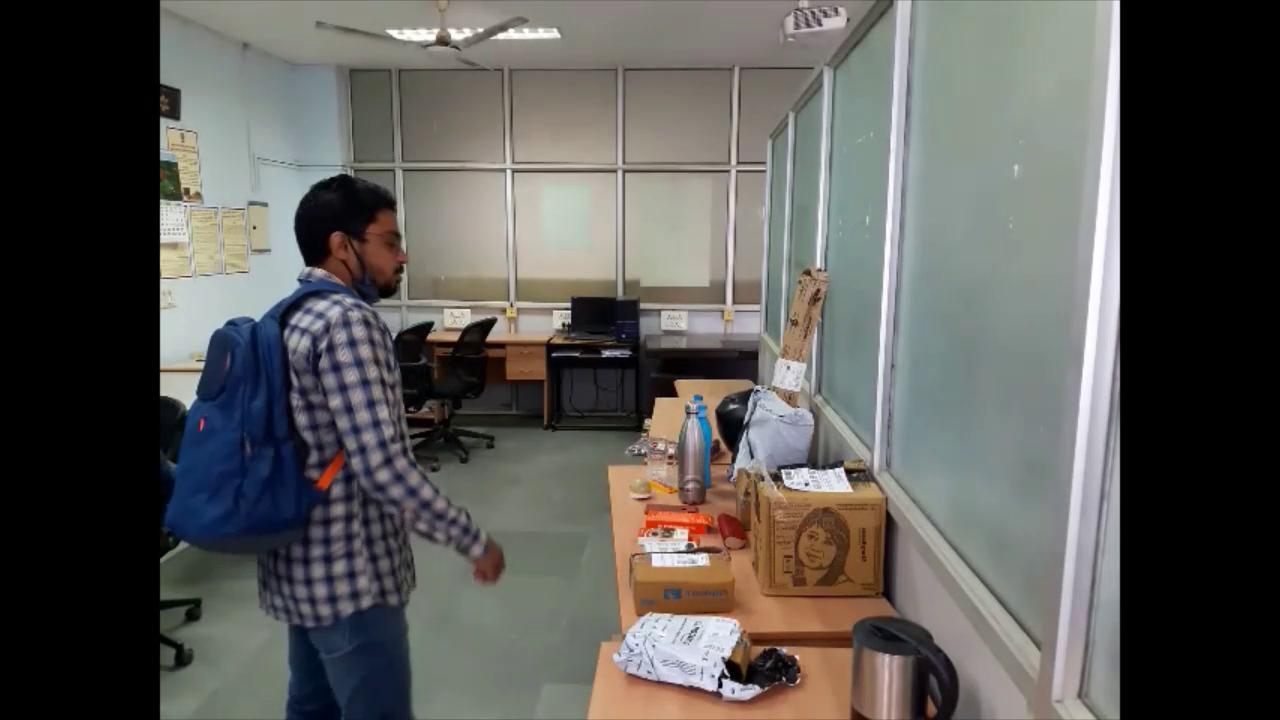Normal: (170, 155, 498, 719)
